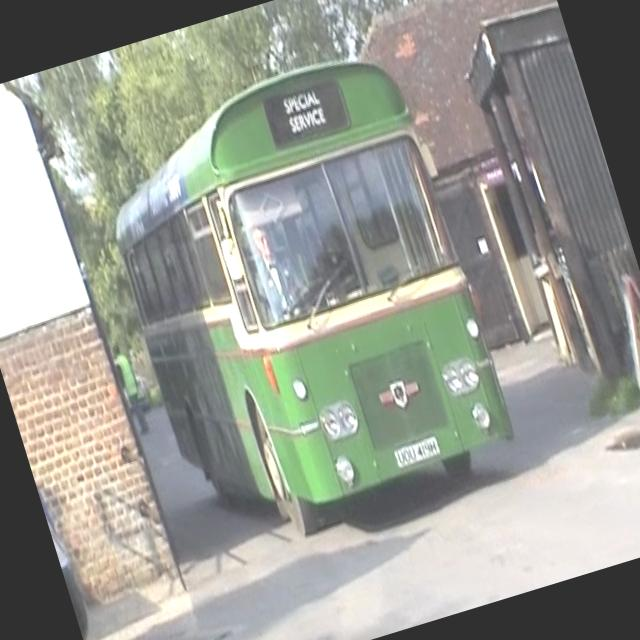Vehicle: (82, 36, 532, 564)
